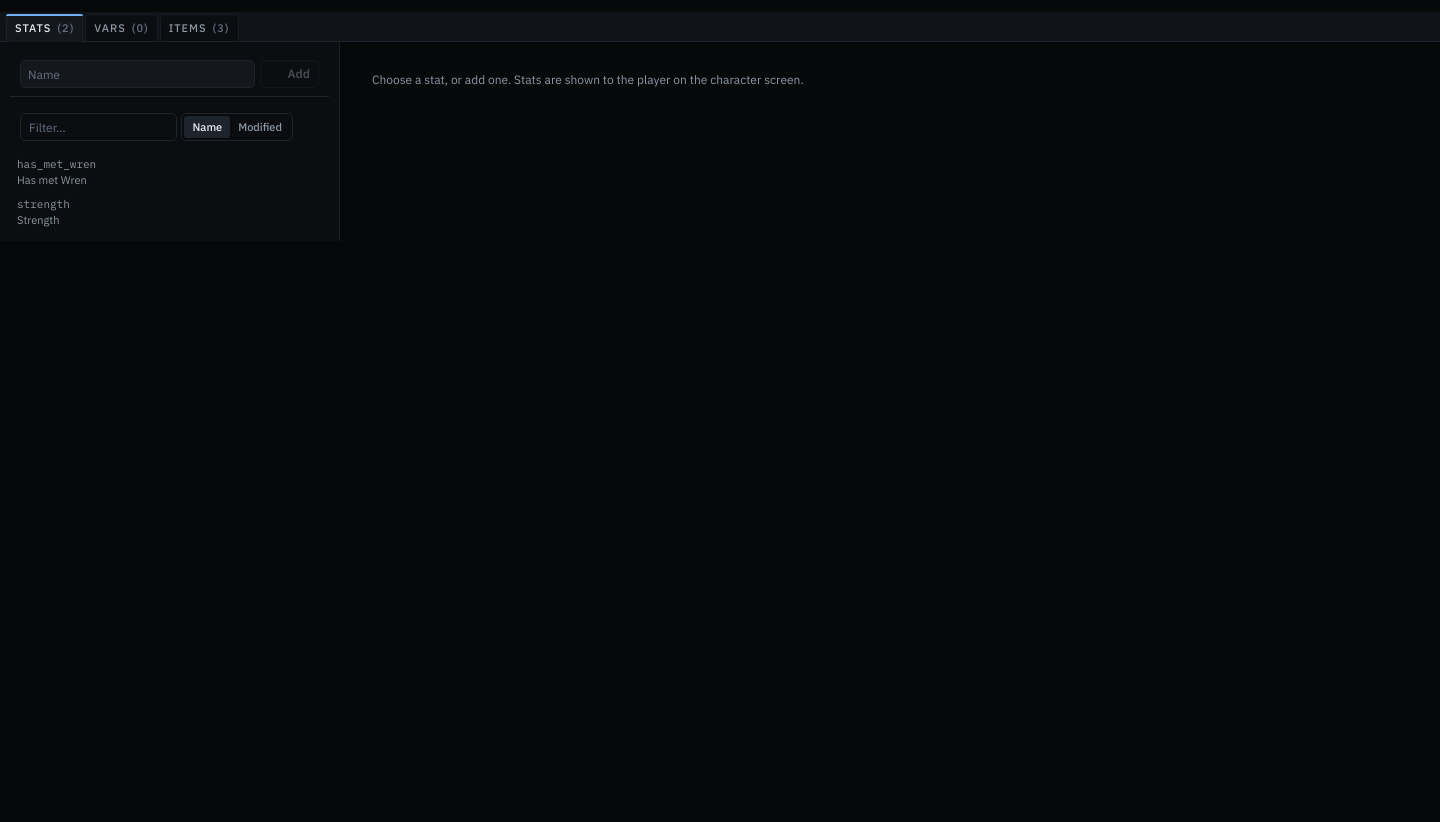
it: StatsPanel › opens a stat’s fields when it is chosen
The image size is (1440, 822).
Click the text "strength".
click(43, 204)  # box [17,197,70,212]
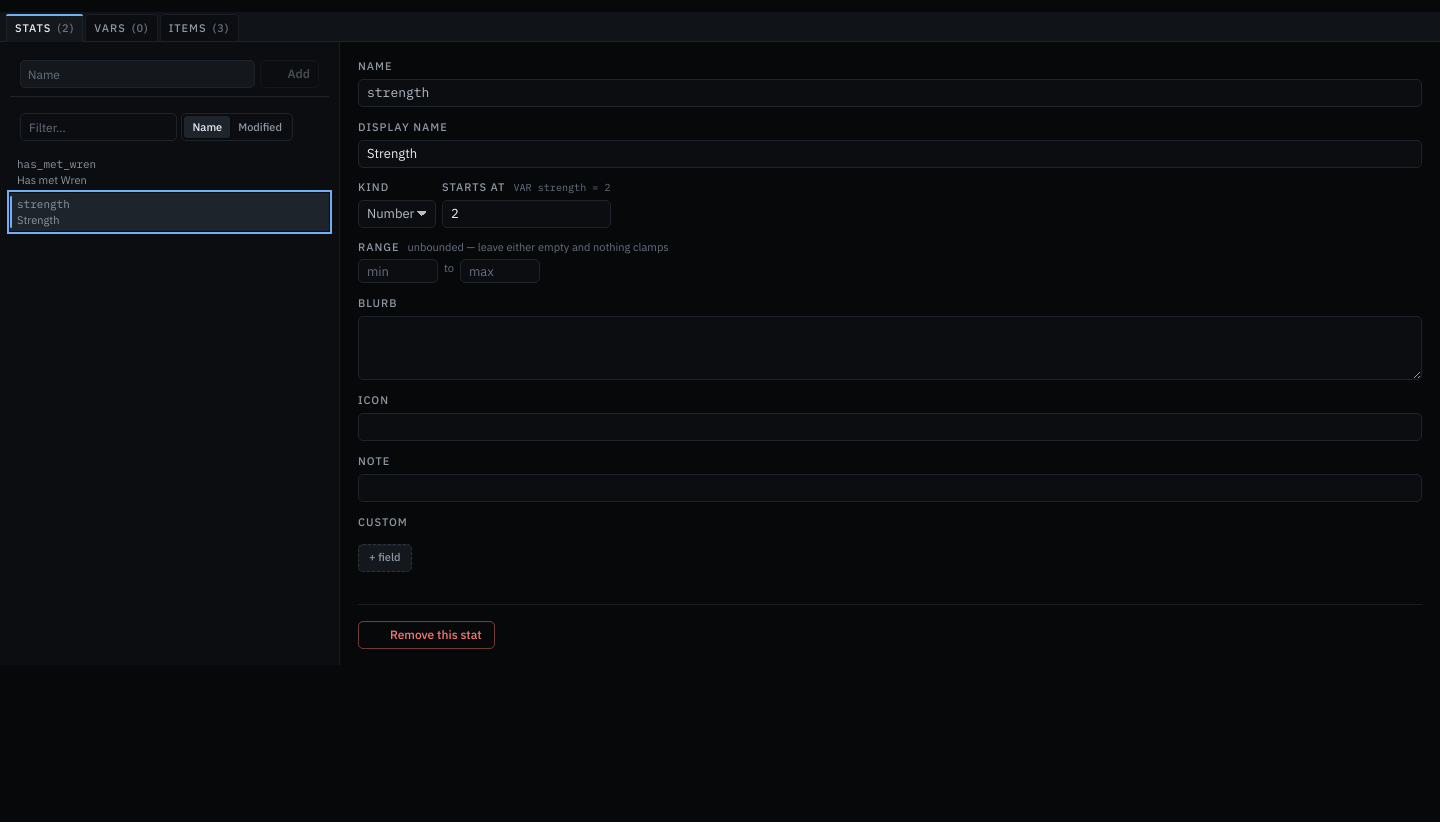
Expected: the dropdown named "Kind of strength" shows "Number", [358,200,436,228]
Expected: the number field named "Starting value of strength" holds "2", [442,200,610,228]
